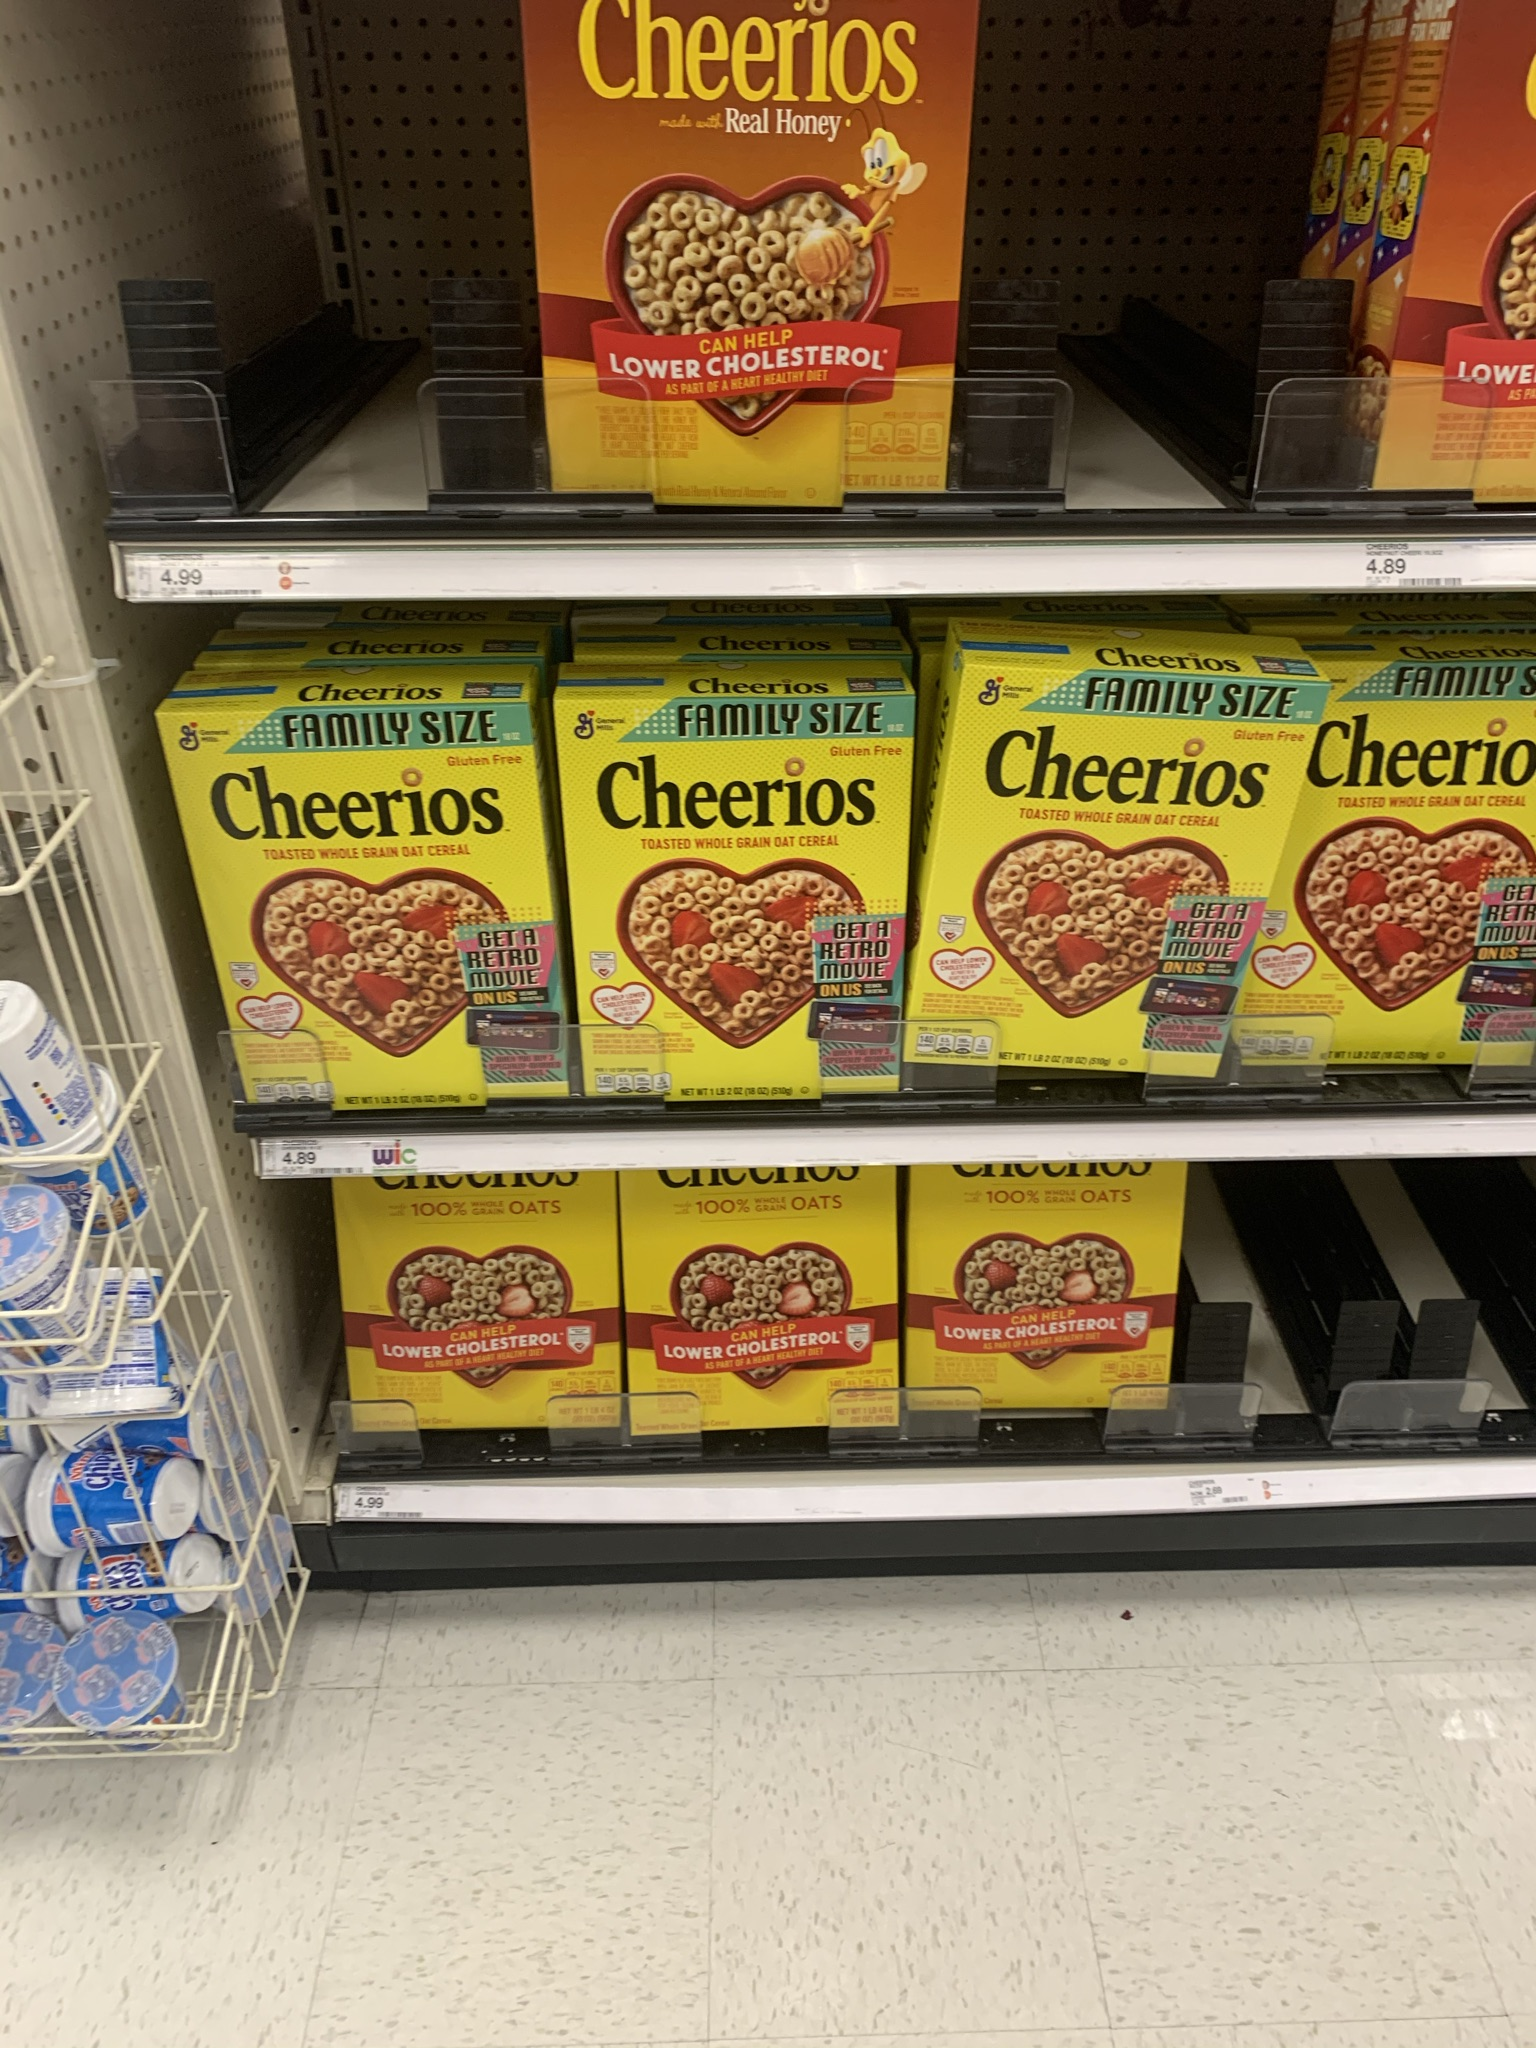Cheerios familty size: (184, 724, 561, 1121), (582, 726, 897, 1085), (963, 681, 1257, 1061), (1338, 685, 1536, 1097), (933, 1171, 1184, 1442), (649, 1179, 902, 1434), (392, 1171, 602, 1471)
cheerios honey: (534, 3, 954, 471)
